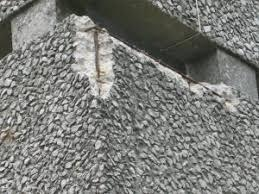exposed_rebar: (94, 29, 100, 81)
spalling: (70, 14, 240, 113)
